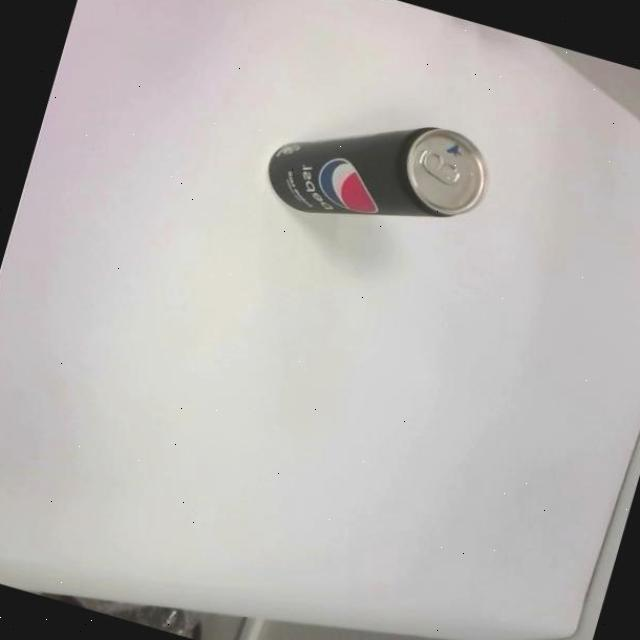debris: (257, 83, 499, 258)
